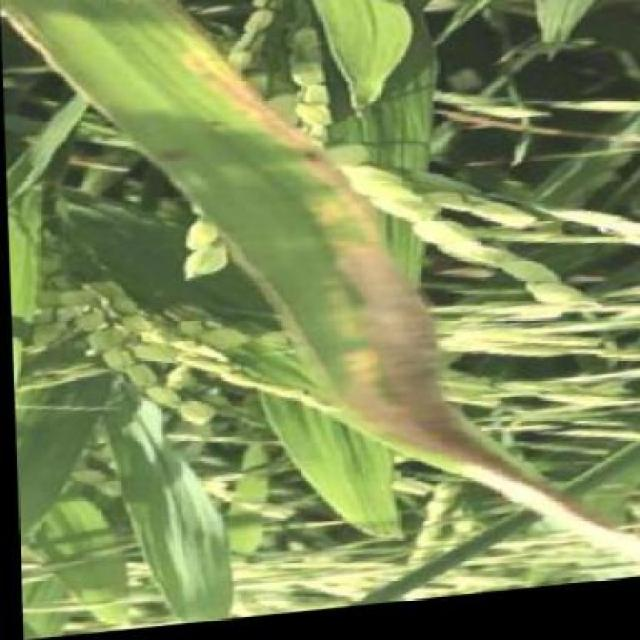Brown_Spot: (227, 207, 431, 465), (1, 1, 68, 81)
